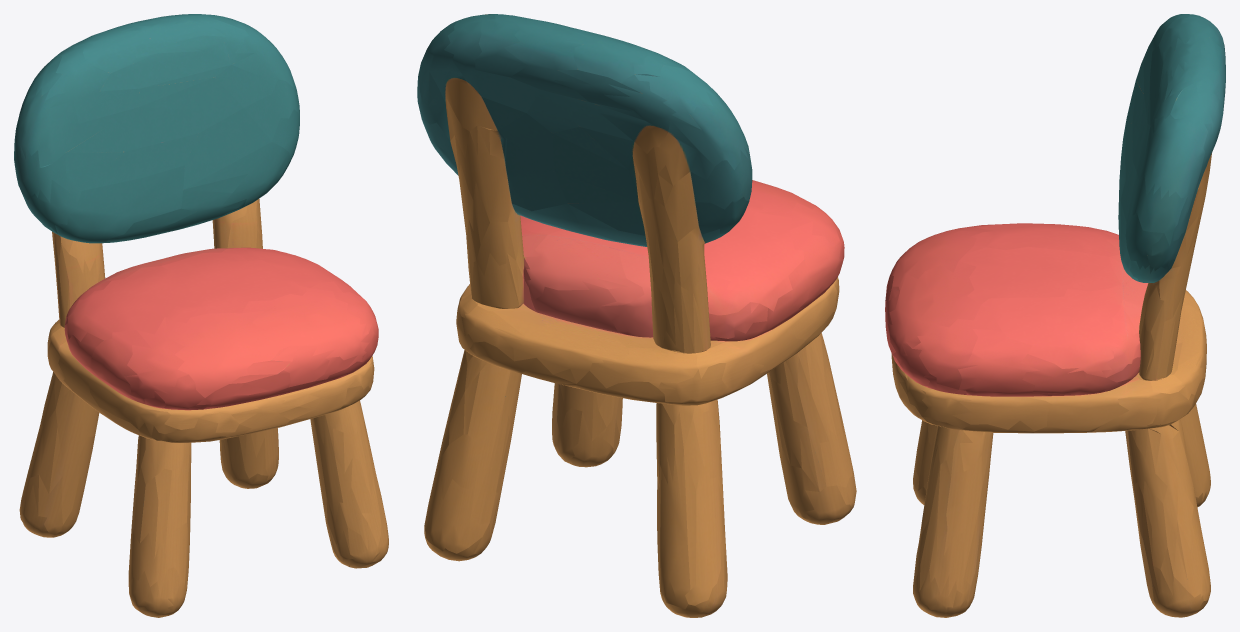
File: restaurant-dining-chair.glb
The picture shows the model from 3 angles, left to right: view 1: azimuth 30°, elevation 25°; view 2: azimuth 150°, elevation 25°; view 3: azimuth 270°, elevation 25°; orthographic projection. The views are drawn at different scales.
Parts seen in each view (by area): view 1: Mesh_0; view 2: Mesh_0; view 3: Mesh_0.
Boxes of the visible parts, <box> form: Mesh_0: <box>14,14,388,617</box>; Mesh_0: <box>417,14,856,617</box>; Mesh_0: <box>885,14,1225,617</box>.
Bounding box in the file's own units: 0.5454 × 0.9 × 0.5387.
Materials: 1 (1 with a texture image).
